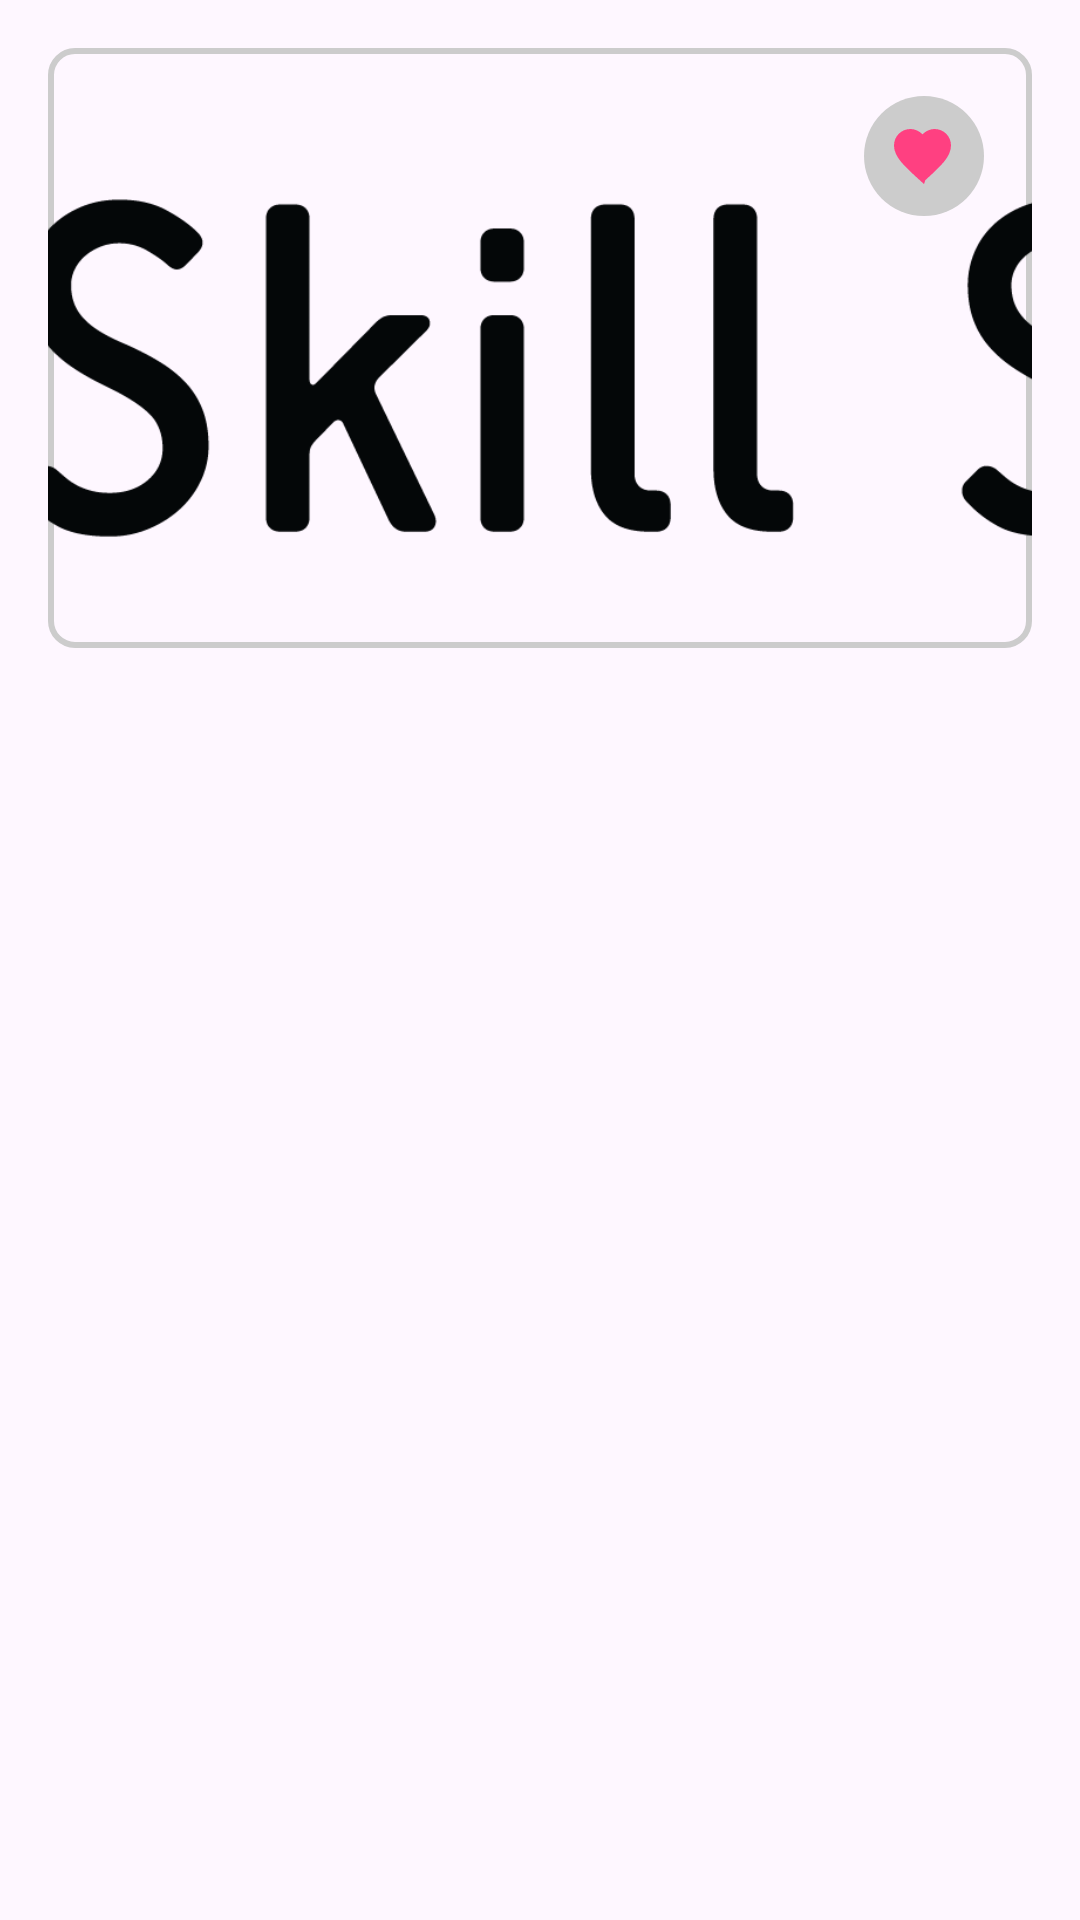

Point at icon controls on the screen. Image size 1080x1920, points as [x,y].
favorite: [924,156]
